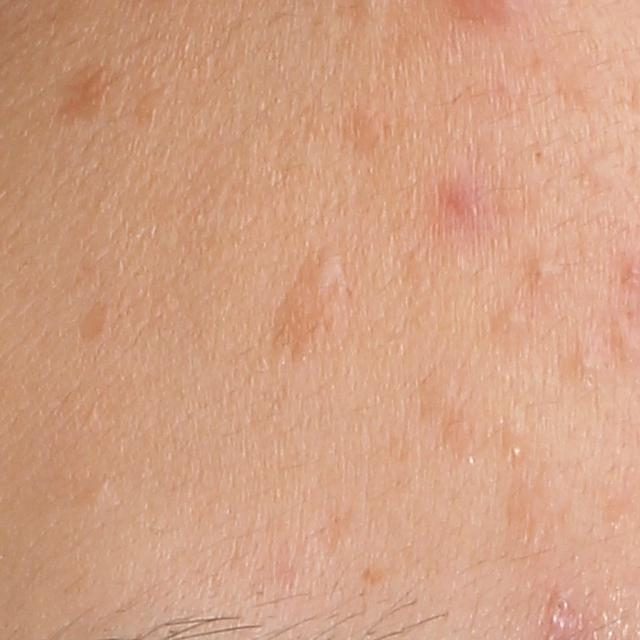comedo: (529, 259, 565, 283), (499, 308, 526, 325), (578, 350, 600, 370), (508, 444, 525, 463)
